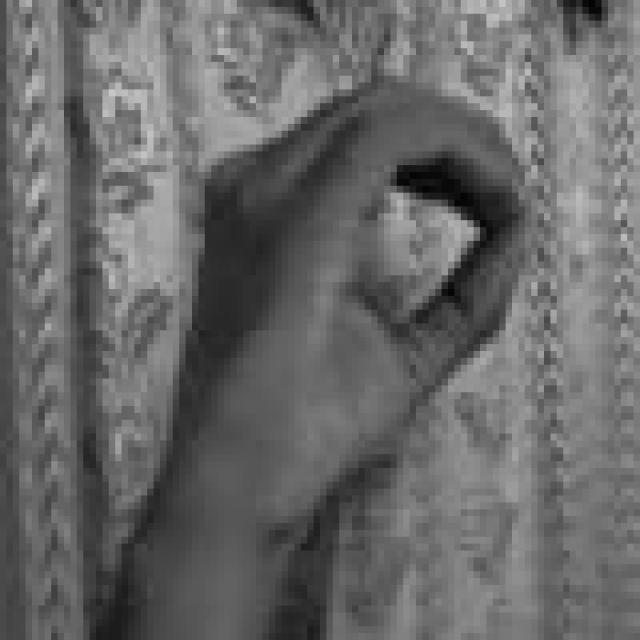O: (192, 62, 538, 489)
